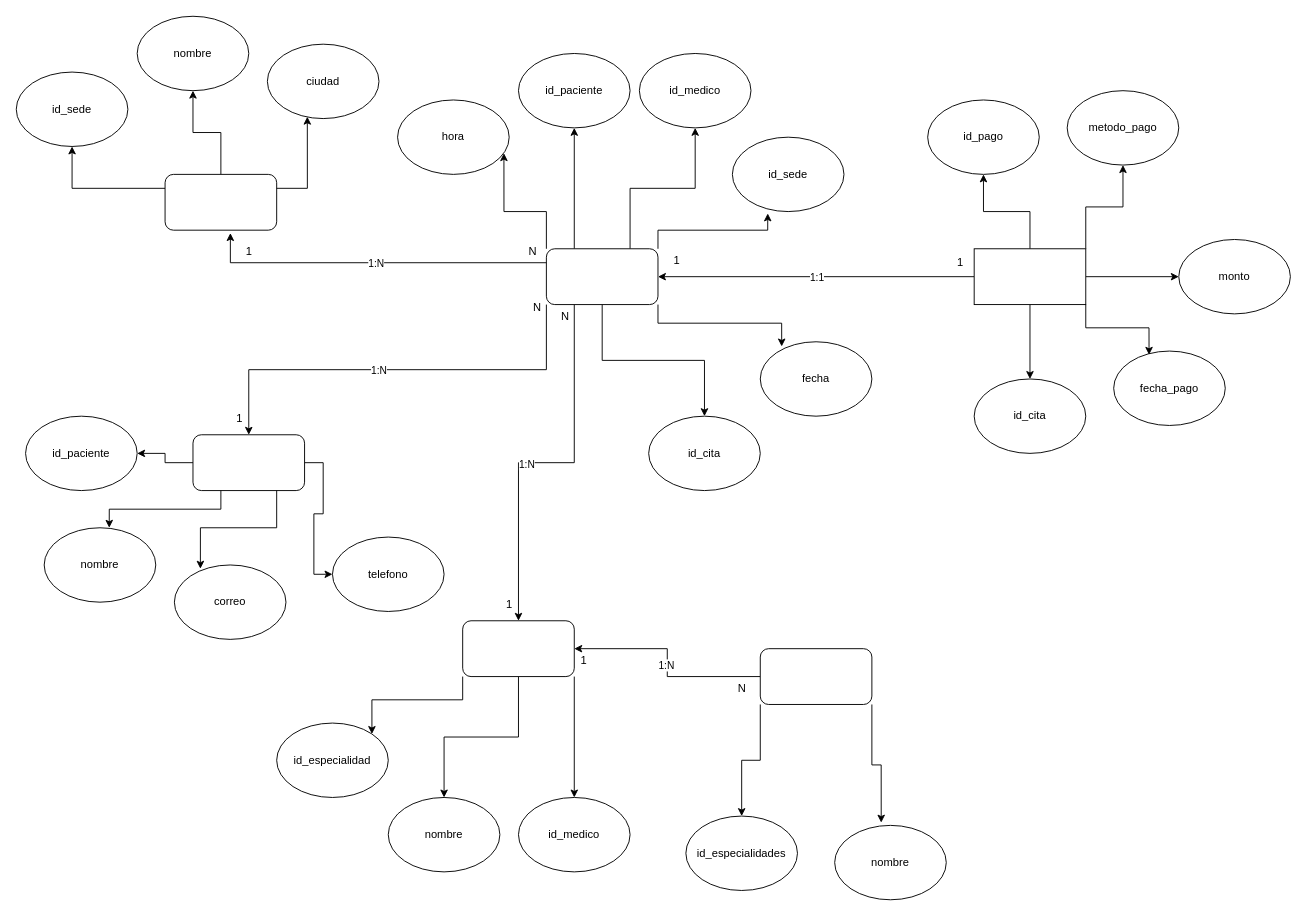
The diagram is 1307 pixels wide and 916 high, and some of its shapes have lost their labels. Here are the shapes that lost their labels. From the top down, the box of each, then its label:
(164, 173, 277, 230): sedes
(545, 248, 658, 305): citas
(973, 248, 1086, 305): pagos
(192, 434, 305, 491): pacientes
(462, 620, 574, 677): medicos
(759, 648, 872, 704): especialidades
